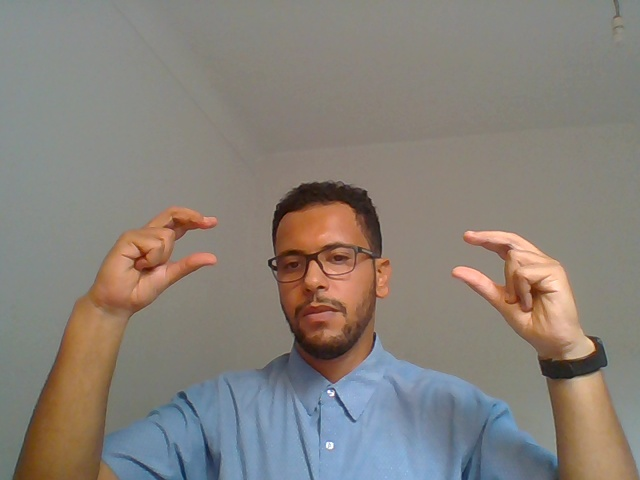no: (424, 201, 606, 436), (54, 157, 234, 372)
